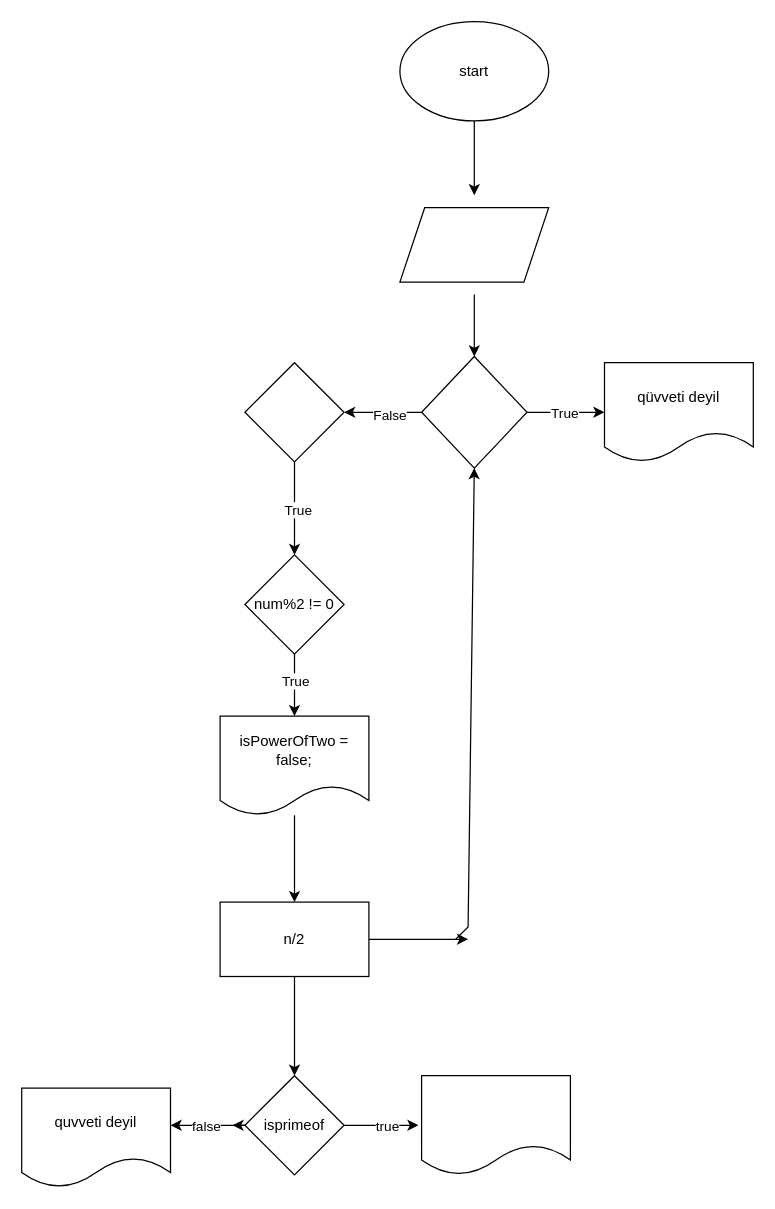
Image size: 775x1209. Some labels were removed from this diagram. Here are the shapes that lost their labels. From the top down, the centre of each, then its label:
At pixel 474 244: "int num bool ispowerof".
At pixel 294 411: "num>1".
At pixel 473 411: "num<=0".
At pixel 495 1124: "qüvvetidir".
